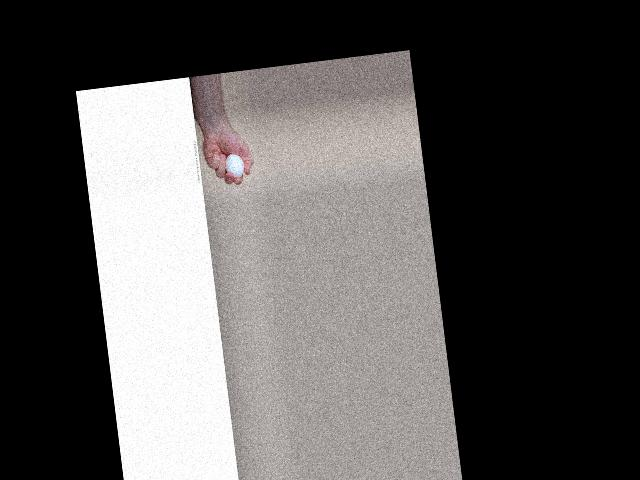egg: (224, 151, 245, 178)
